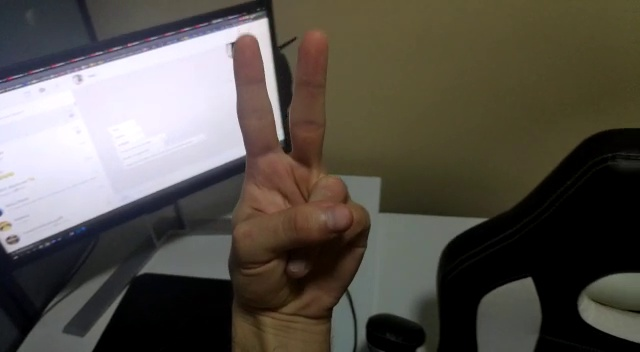Peace: (221, 31, 376, 321)
